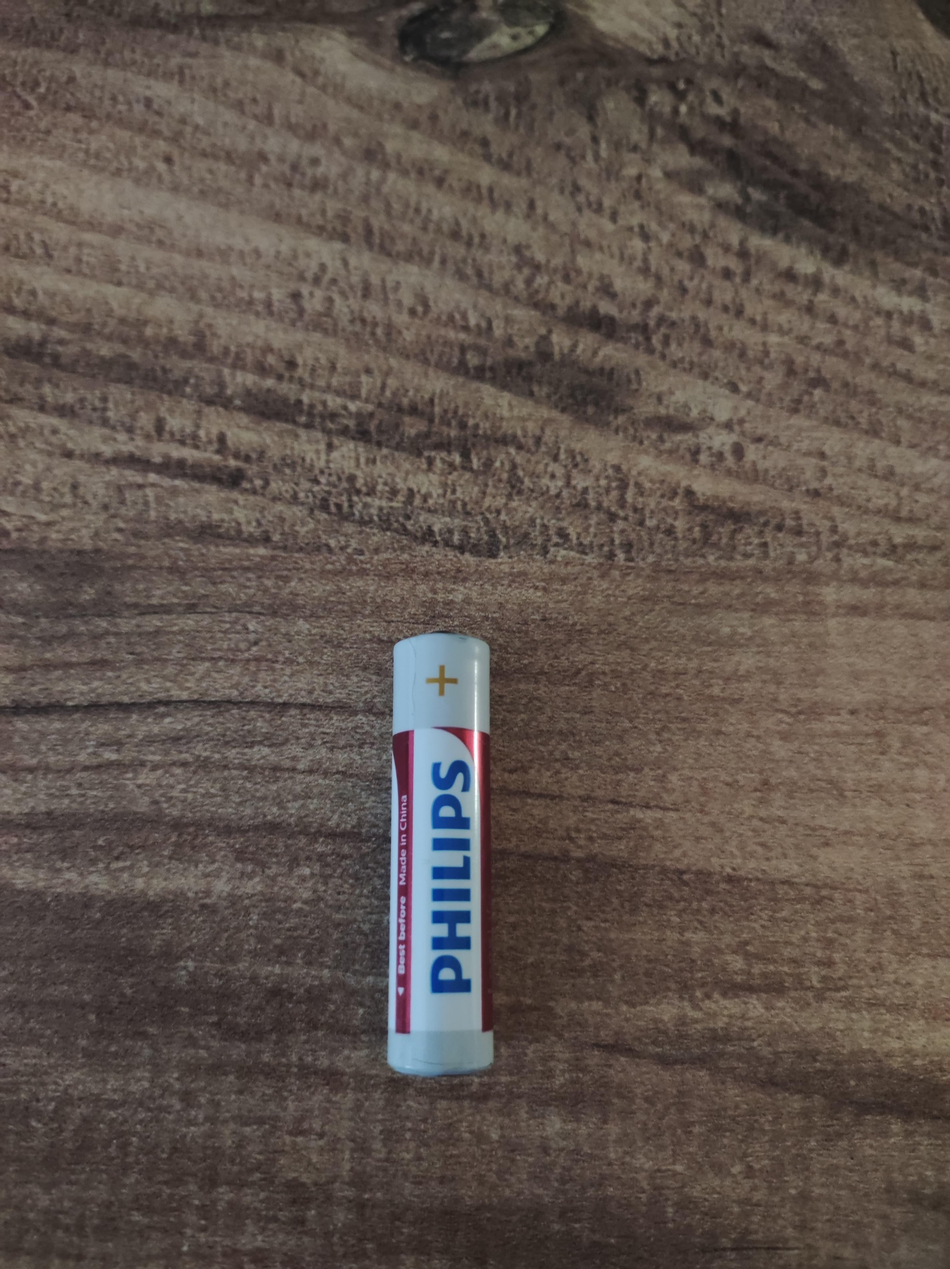AAA: (385, 624, 501, 1082)
